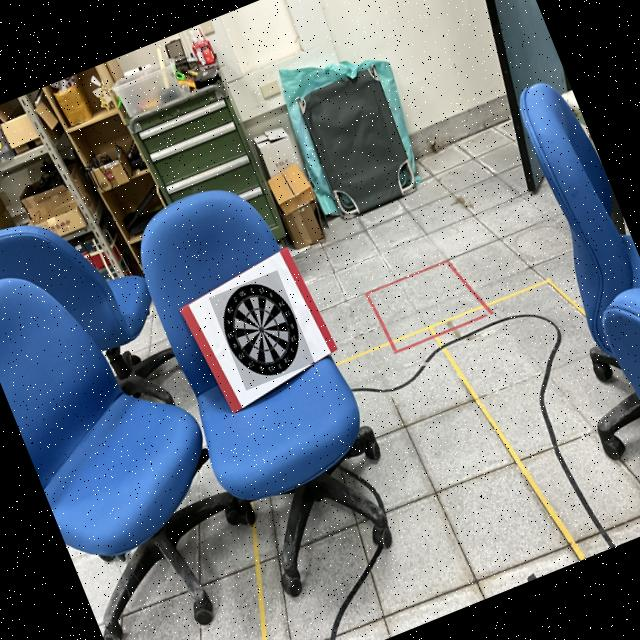archery-targets: (208, 270, 314, 390)
